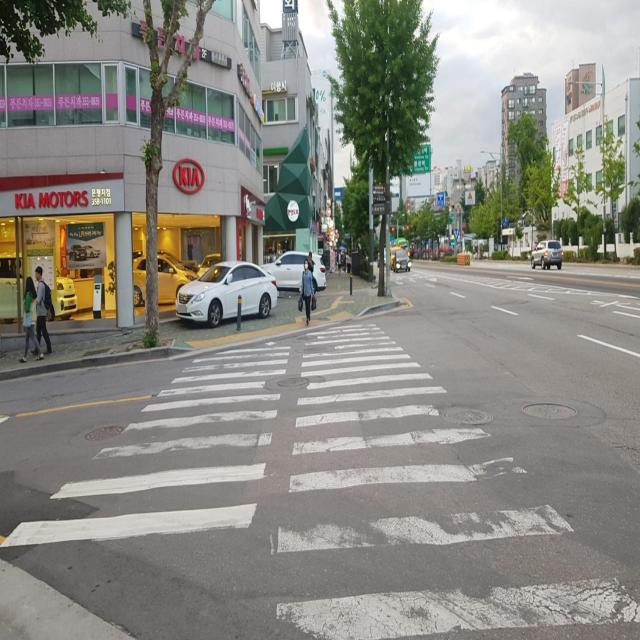횡단보도: (0, 321, 640, 640)
